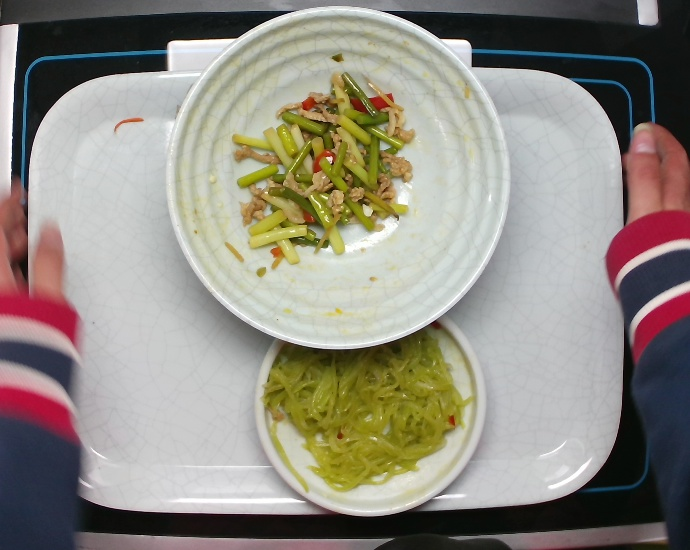JYsf-Da_Tang_Wan: (161, 5, 517, 359)
JYsf-Xiao_Yuan_Pan: (251, 295, 491, 525)
